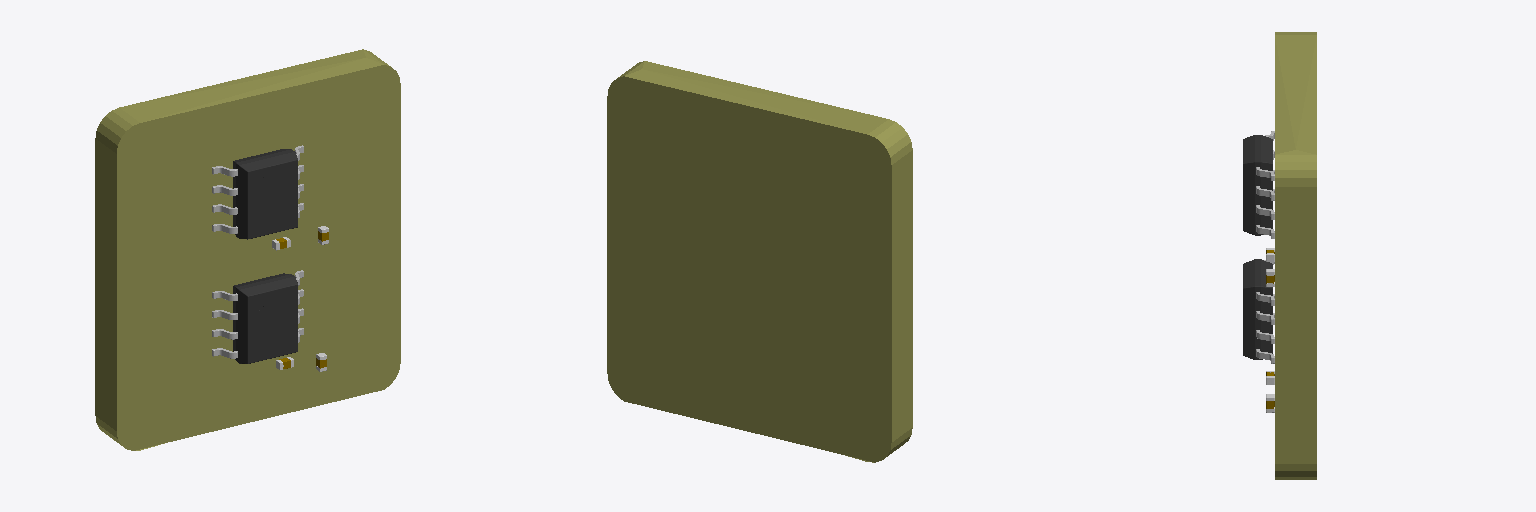
File: OBJ_PCB_satima_s2a.obj
The picture shows the model from 3 angles: view 1: azimuth 30°, elevation 25°; view 2: azimuth 150°, elevation 25°; view 3: azimuth 270°, elevation 25°; orthographic projection.
Size of the model in its own units: 77.54 by 85.41 by 17.47.